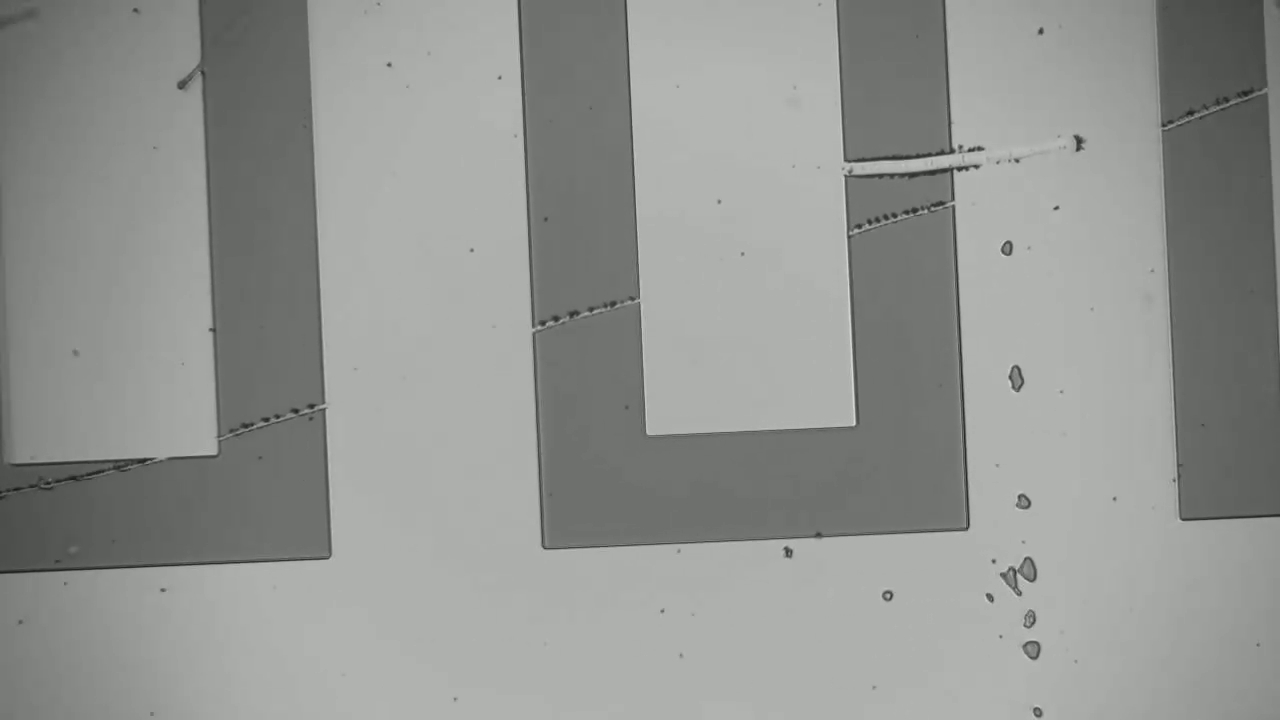Short_circuit: (823, 140, 978, 187)
scratch: (1169, 83, 1261, 125), (7, 467, 135, 494), (224, 398, 319, 434), (535, 293, 635, 327), (858, 195, 950, 230)
